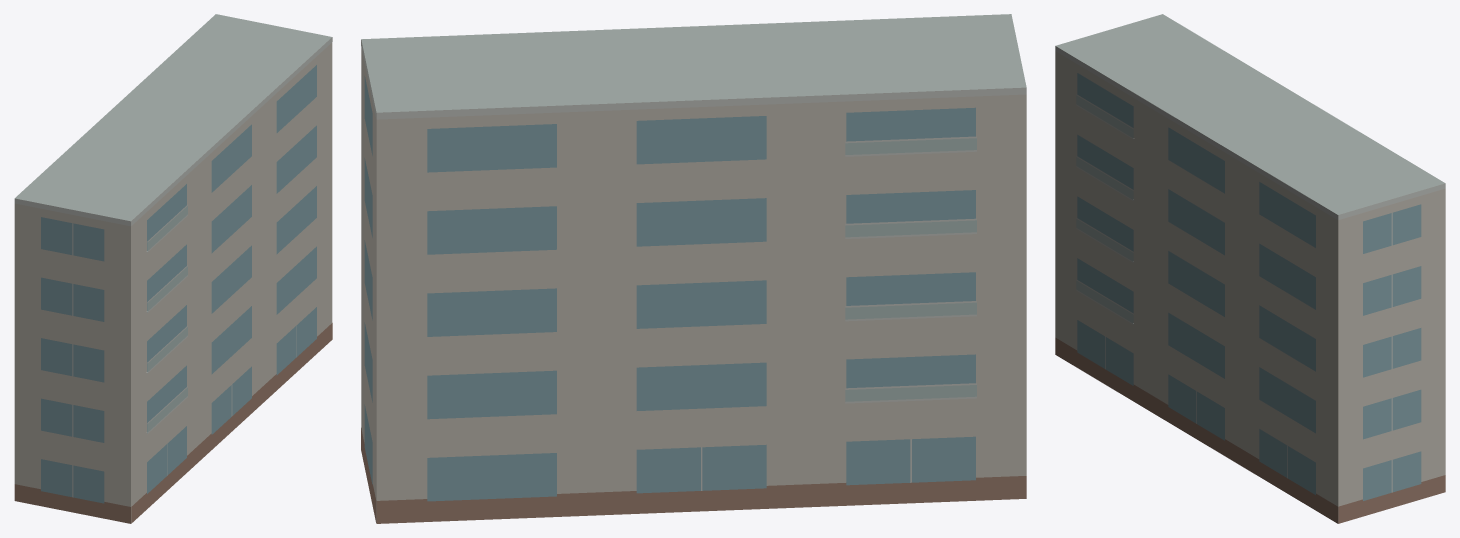
Rendered from survey-upis-32719054.glb.
The picture shows the model from 3 angles, left to right: view 1: azimuth 30°, elevation 25°; view 2: azimuth 150°, elevation 25°; view 3: azimuth 270°, elevation 25°; orthographic projection. The views are drawn at different scales.
Visible parts, largest first — view 1: survey-upis-32719054.tmp; view 2: survey-upis-32719054.tmp; view 3: survey-upis-32719054.tmp.
Part boxes in pixels (x1,y1,x2,y2): survey-upis-32719054.tmp: (14, 14, 332, 523); survey-upis-32719054.tmp: (361, 14, 1026, 523); survey-upis-32719054.tmp: (1055, 14, 1445, 523).
Size of the model in its own units: 20.33 by 14.55 by 16.68.
